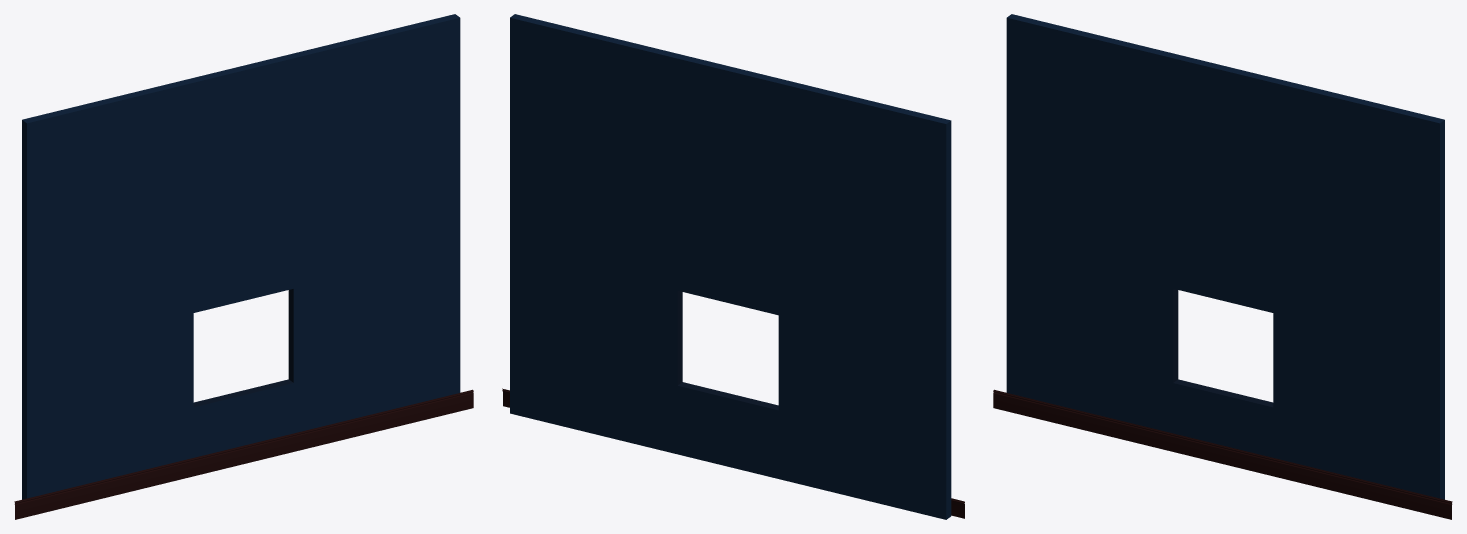
The model's file is Wall_V3_Window.FBX.
3 views of the same model, side by side, from view 1: azimuth 30°, elevation 25°; view 2: azimuth 150°, elevation 25°; view 3: azimuth 330°, elevation 25° (orthographic).
Parts seen in each view (by area): view 1: Wall_V3; view 2: Wall_V3; view 3: Wall_V3.
Part boxes in pixels (left/top/right/bottom): Wall_V3: left=14, top=14, right=473, bottom=519; Wall_V3: left=502, top=14, right=964, bottom=519; Wall_V3: left=993, top=14, right=1452, bottom=519.
Size of the model in its own units: 313 by 256 by 6.8.
